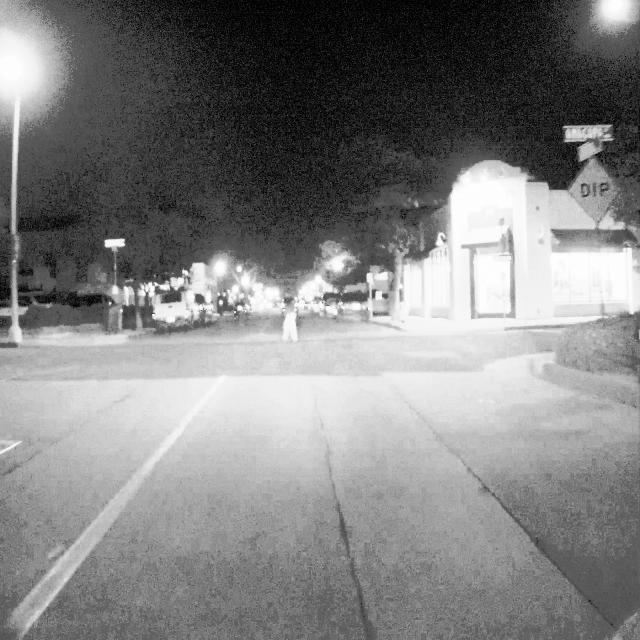Sign: (561, 123, 621, 223)
